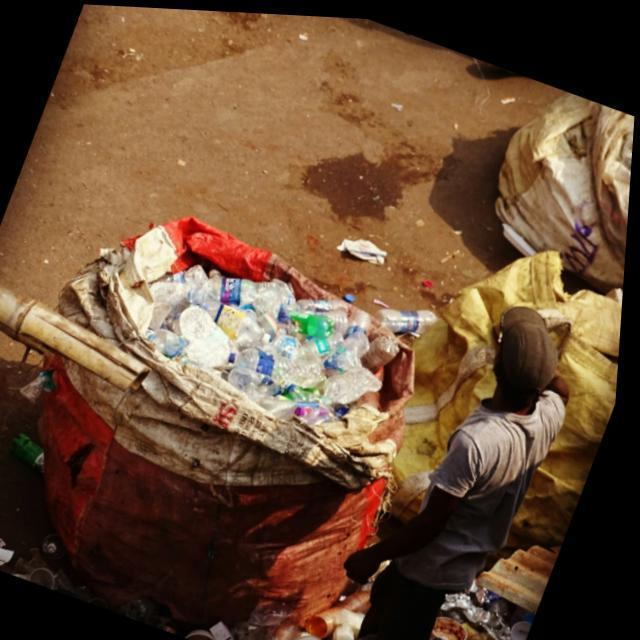Garbage: (150, 262, 403, 421)
Plastic_bottle: (178, 303, 243, 366), (232, 344, 330, 384), (204, 297, 275, 347), (327, 362, 387, 401), (152, 278, 193, 328), (328, 327, 374, 369), (365, 331, 403, 367), (214, 274, 261, 303), (153, 326, 193, 355), (293, 308, 337, 334), (308, 329, 347, 356), (346, 326, 374, 354), (349, 304, 376, 332), (300, 295, 352, 309), (261, 309, 284, 334)
